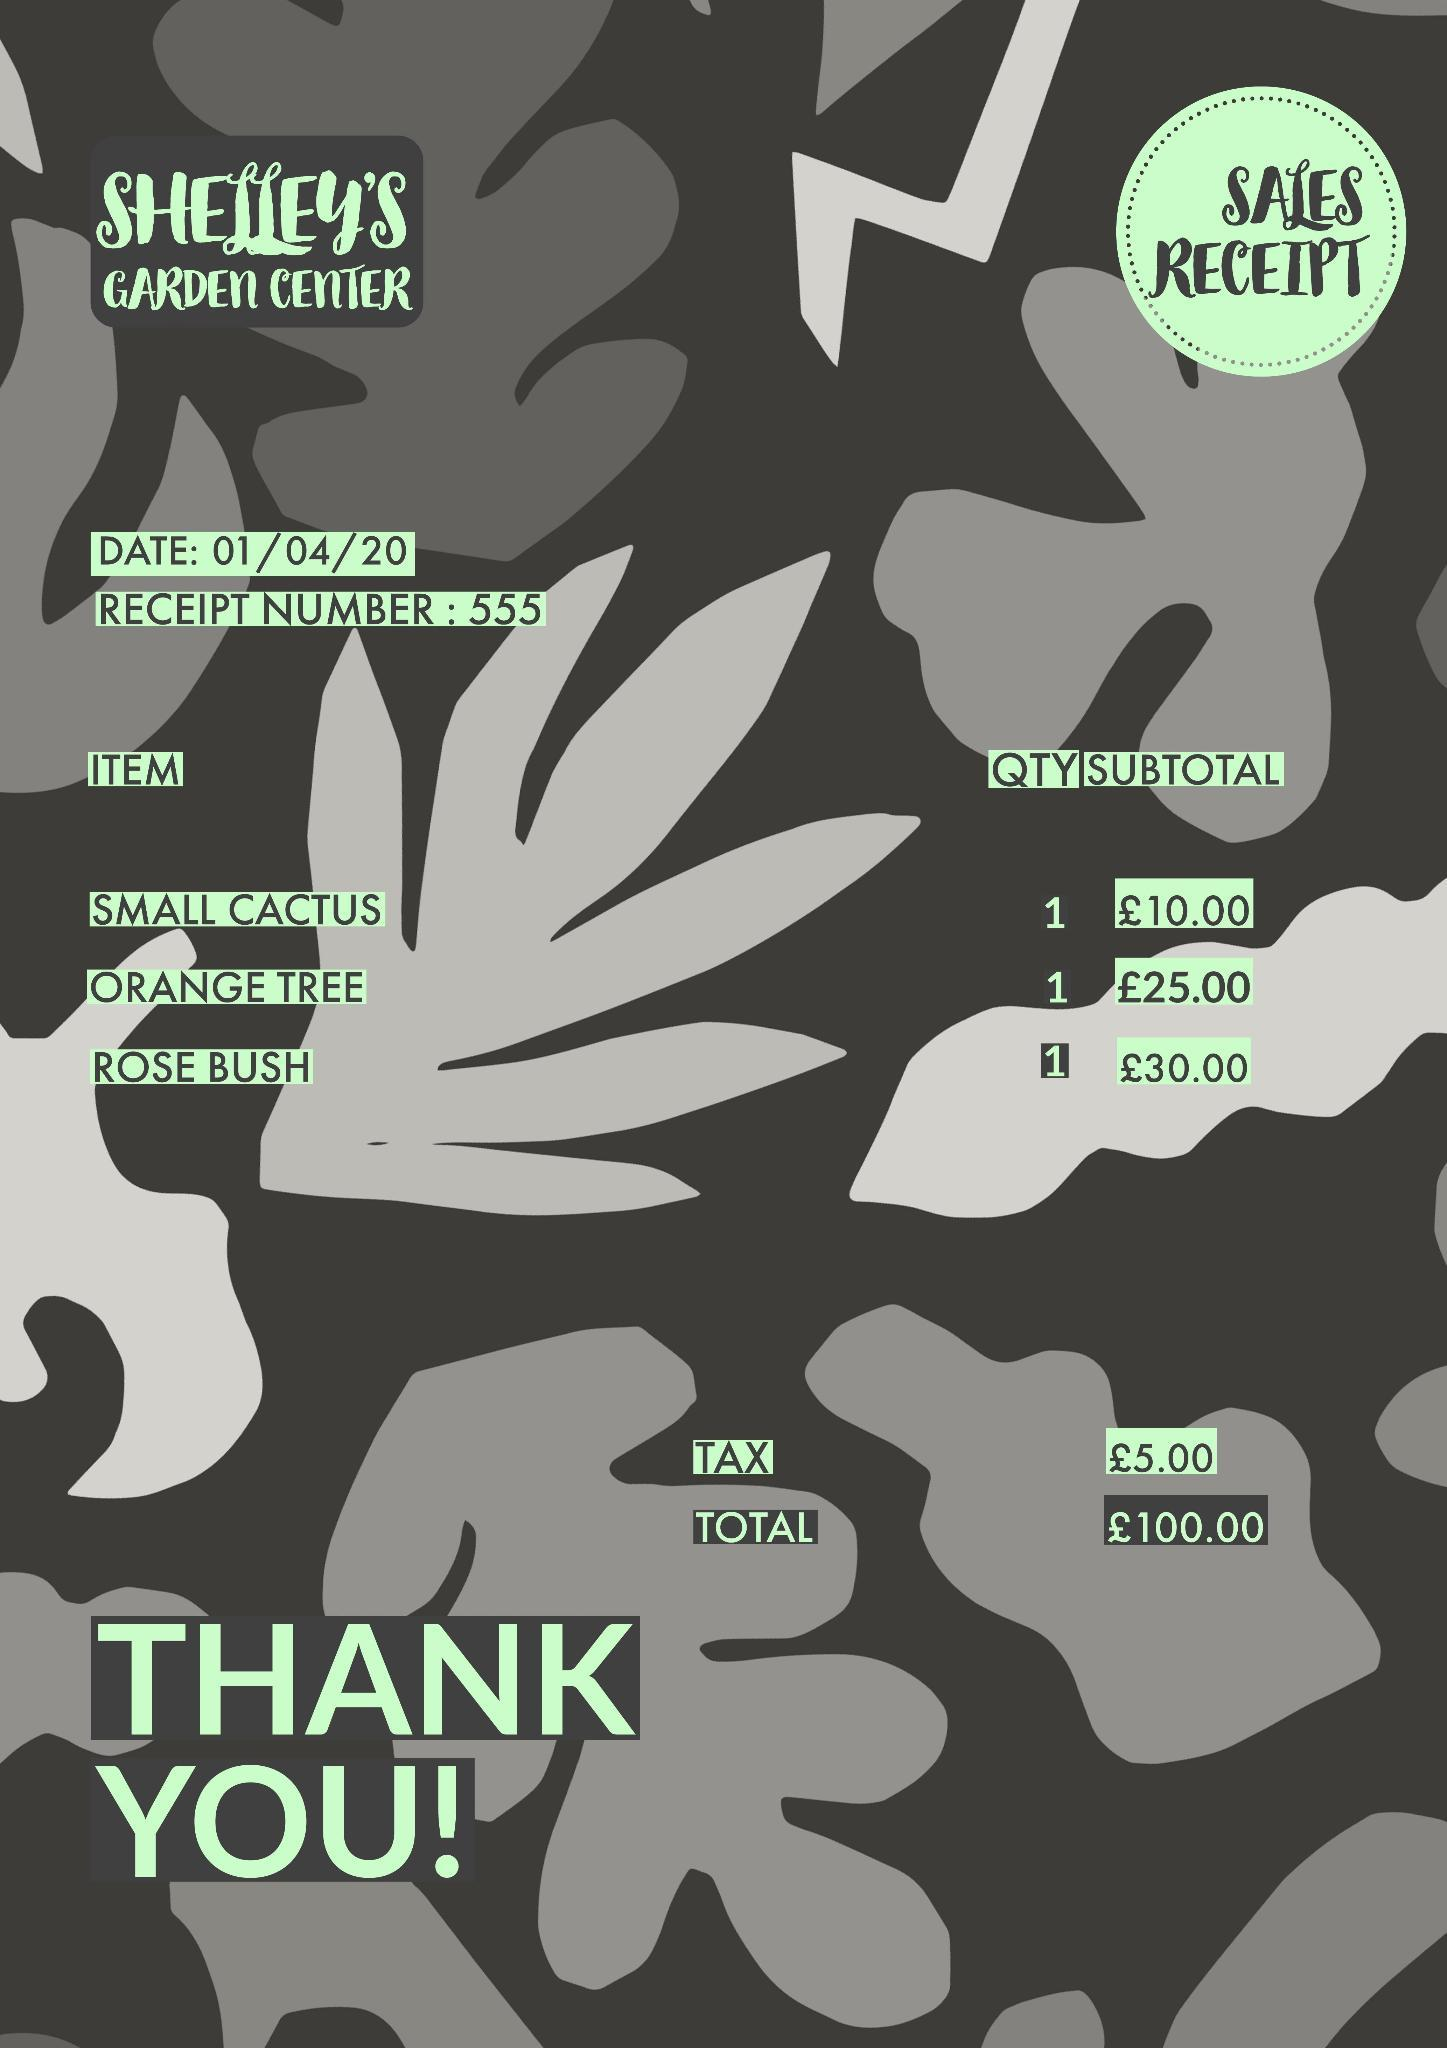ROI: (69, 705, 1326, 1134), (61, 1592, 655, 1899), (659, 1409, 1300, 1574), (81, 146, 428, 337), (96, 525, 567, 640), (1140, 117, 1384, 313)
